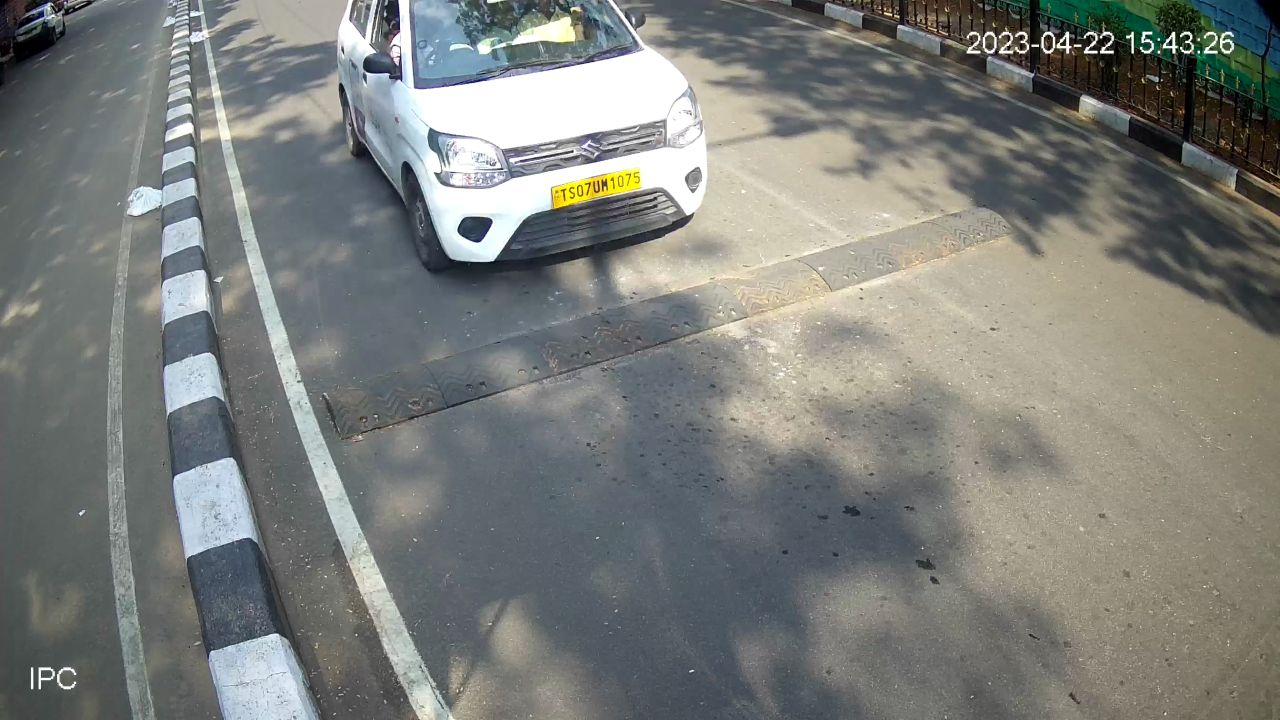license_plate: (546, 164, 645, 212)
